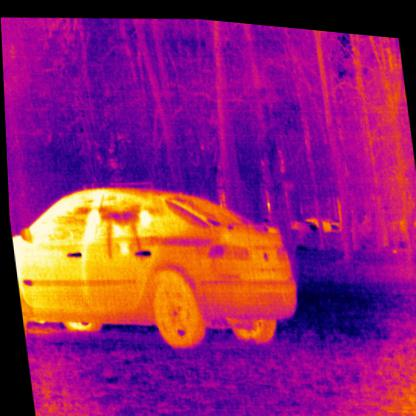drone: (85, 201, 153, 260)
